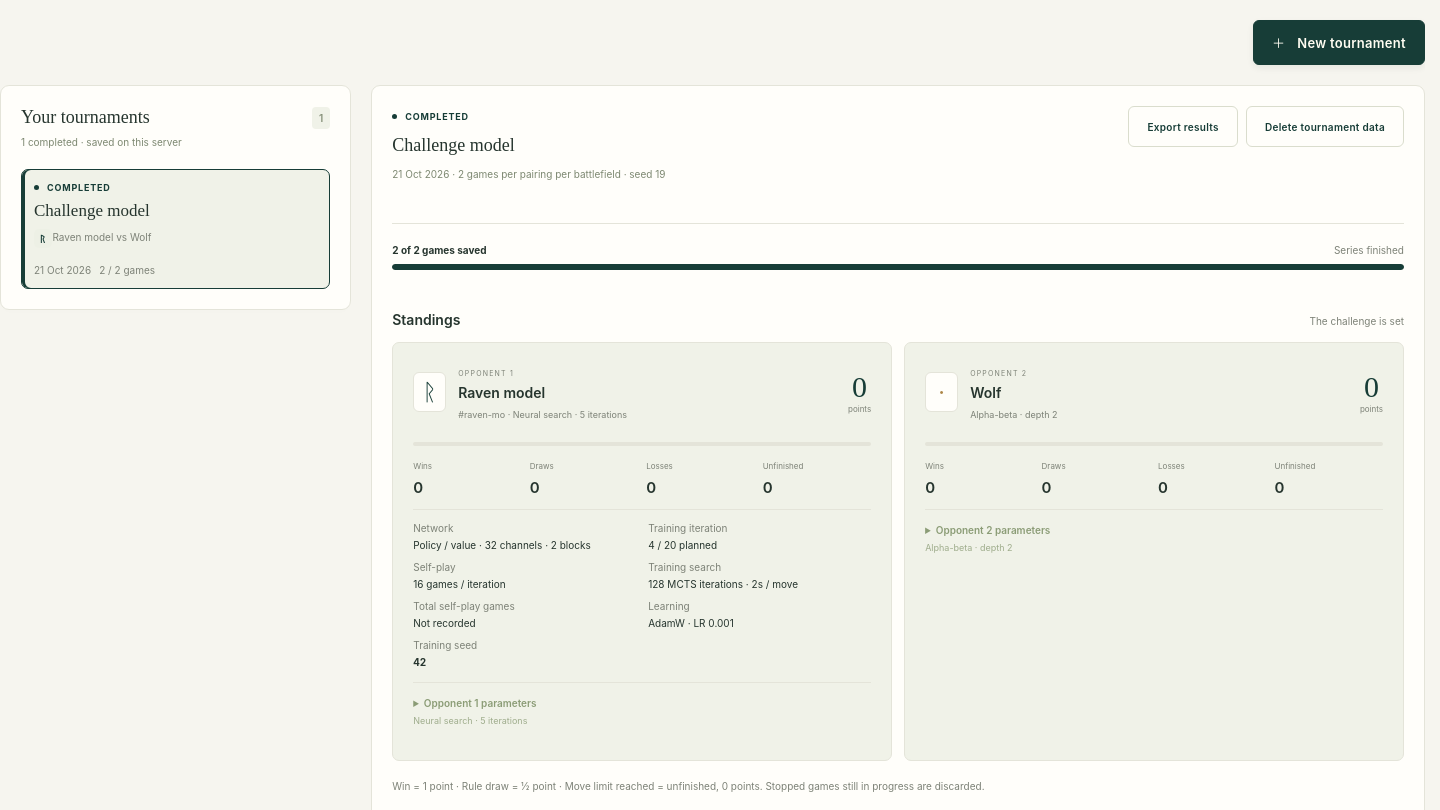
tournament setup and saved selection › uses model names without aliases and shows saved network and training budgets
This screenshot has width=1440, height=810.
Expected: the heading "Challenge model" is shown, x1=392 y1=135 x2=515 y2=155
Expected: the heading "Raven model" is shown, x1=458 y1=384 x2=545 y2=401
Click the button "＋ New tournament".
click(1339, 42)  # box x1=1253 y1=20 x2=1425 y2=65
(page scrolled)
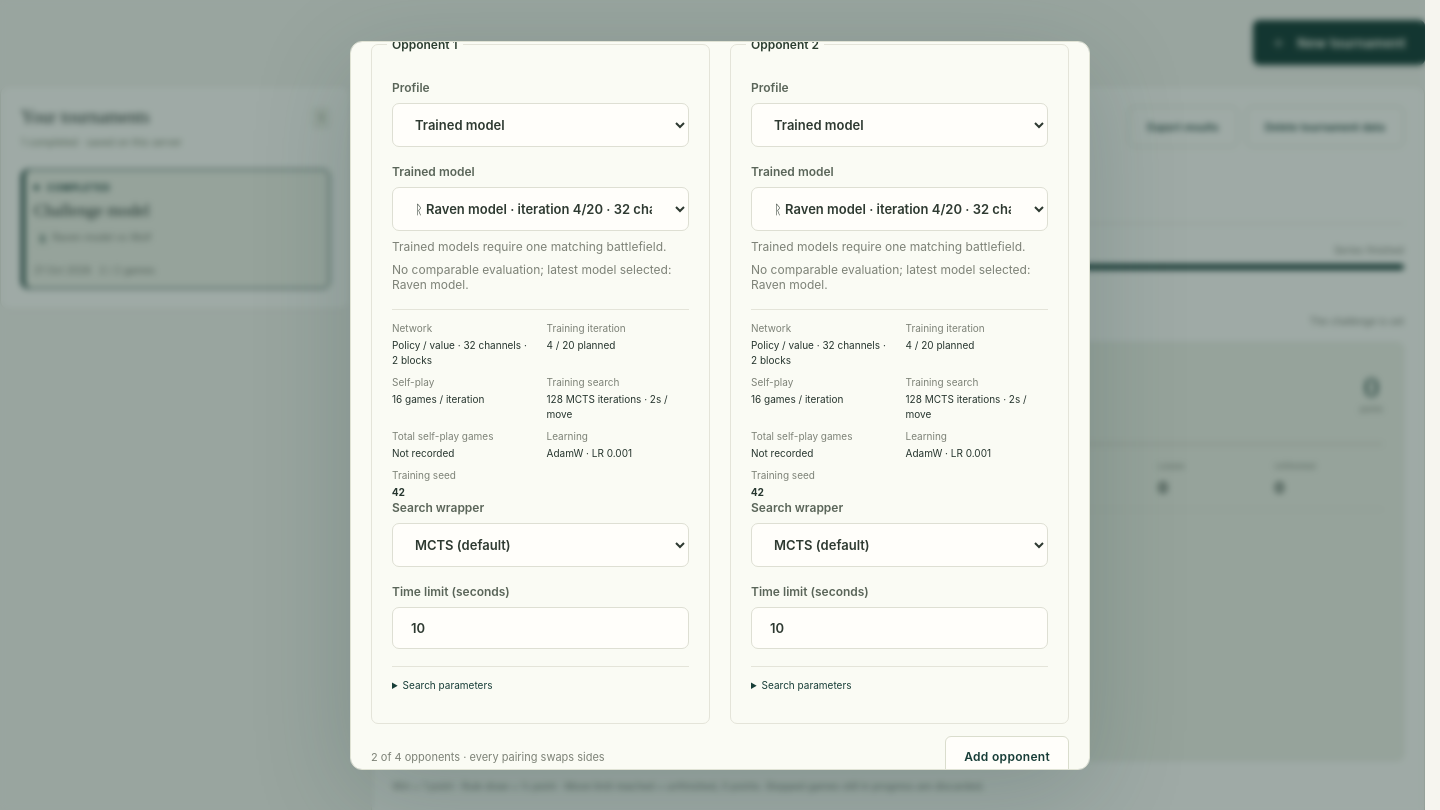
Now the dropdown named "Opponent 1 trained model" shows "ᚱ Raven model · iteration 4/20 · 32 channels · 2 blocks · #raven-mo", box x1=392 y1=187 x2=689 y2=231
Now the number of elements named "Model network and training" is 2, box x1=392 y1=309 x2=689 y2=500; x1=751 y1=309 x2=1048 y2=500
Now the element named "Model network and training" shows "4 / 20 planned", box x1=546 y1=339 x2=615 y2=351
